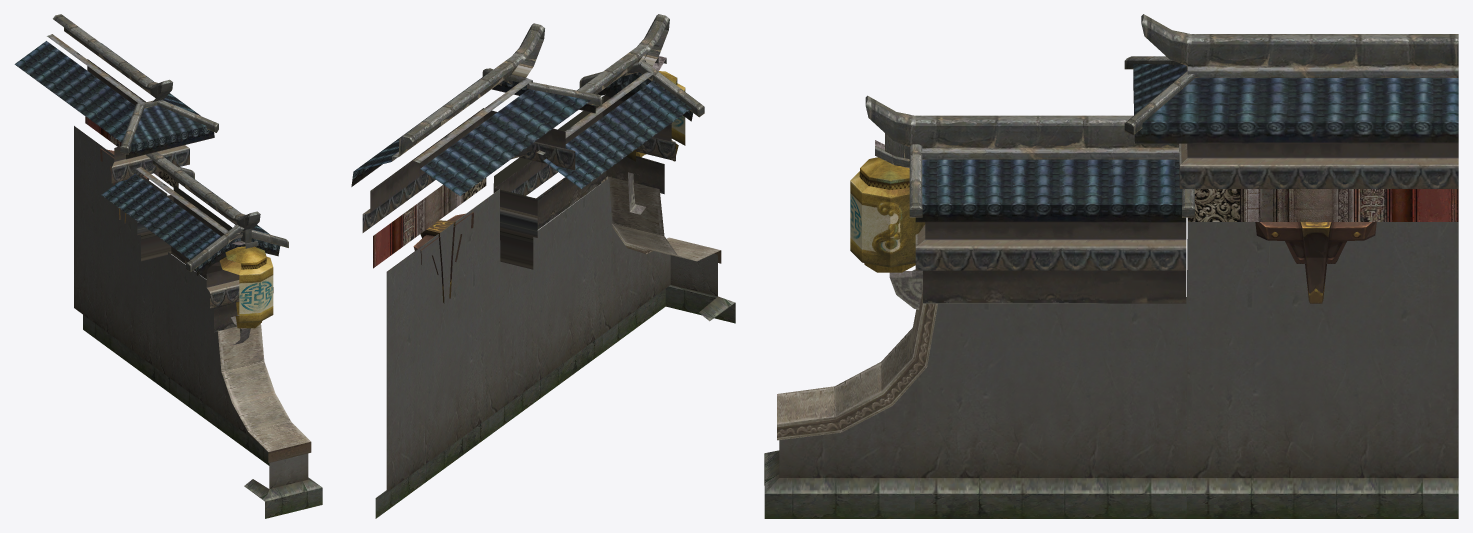
The model's file is cj_luoyang_weiqiang05_55_48_7582out.fbx.
The picture shows the model from 3 angles, left to right: view 1: azimuth 30°, elevation 25°; view 2: azimuth 150°, elevation 25°; view 3: azimuth 270°, elevation 25°; orthographic projection. The views are drawn at different scales.
Parts seen in each view (by area): view 1: cj_luoyang_weiqiang05; view 2: cj_luoyang_weiqiang05; view 3: cj_luoyang_weiqiang05.
Part boxes in pixels (x1,y1,x2,y2): cj_luoyang_weiqiang05: [14, 14, 322, 518]; cj_luoyang_weiqiang05: [351, 14, 735, 518]; cj_luoyang_weiqiang05: [764, 14, 1458, 518].
Size of the model in its own units: 1.66 by 5.02 by 6.51.
